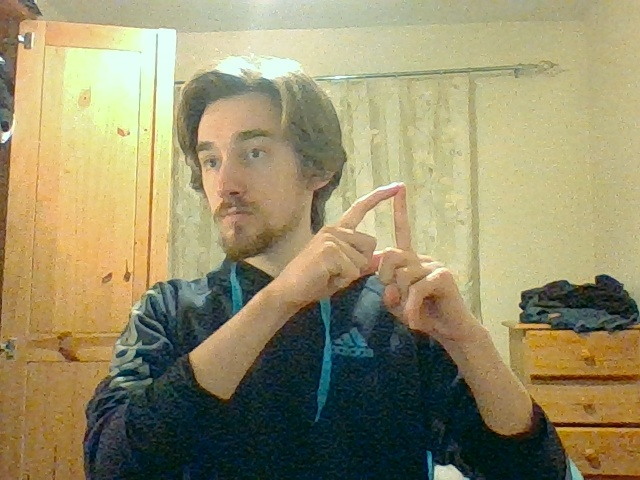daughter: (322, 183, 442, 293)
